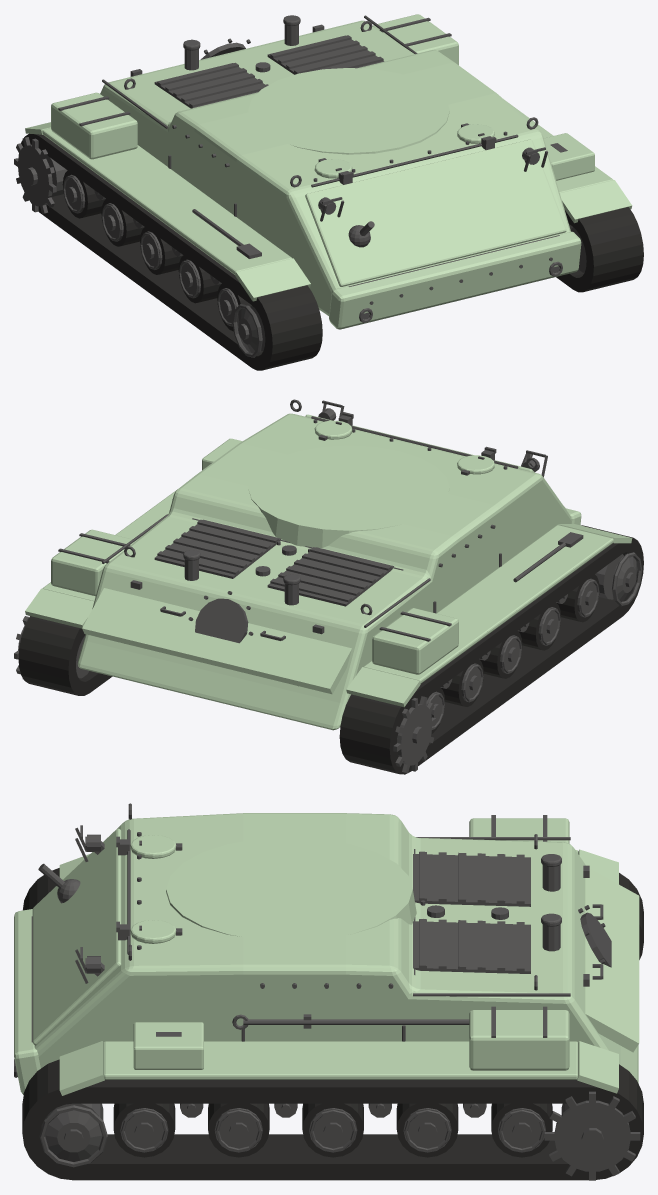
The model's file is light_hull_scout.glb.
3 views of the same model, one above another, from view 1: azimuth 30°, elevation 25°; view 2: azimuth 150°, elevation 25°; view 3: azimuth 270°, elevation 25° (orthographic). The views are drawn at different scales.
Parts seen in each view (by area): view 1: hull_body, glacis_plate, track_right, hull_ring_pedestal, hull_nose_cap, fender_right, track_left, stowage_right, fender_right_tip_f, fender_left_tip_f, stowage_left, toolbox_fender (+13 smaller); view 2: hull_body, track_right, hull_ring_pedestal, hull_rear_plate, fender_right, track_left, stowage_right, stowage_left, engine_grille_1, engine_grille_0, fender_right_tip_r, engine_access_door (+13 smaller); view 3: hull_body, track_left, hull_ring_pedestal, fender_left, glacis_plate, hull_rear_plate, stowage_left, sprocket_rear_disc_l, engine_grille_0, engine_grille_1, hull_nose_cap, toolbox_fender (+22 smaller).
Part boxes in pixels (x1,y1,x2,y2): hull_body: (100, 20, 570, 315); glacis_plate: (305, 139, 566, 286); track_right: (18, 133, 322, 370); hull_ring_pedestal: (248, 68, 449, 154); hull_nose_cap: (329, 231, 581, 329); fender_right: (42, 128, 292, 275); track_left: (556, 207, 643, 292); stowage_right: (51, 92, 137, 159); fender_right_tip_f: (235, 258, 310, 301); fender_left_tip_f: (560, 180, 632, 223); stowage_left: (373, 14, 458, 65); toolbox_fender: (544, 133, 594, 180); hull_body: (77, 413, 571, 730); track_right: (339, 525, 643, 774); hull_ring_pedestal: (248, 445, 449, 547); hull_rear_plate: (82, 588, 351, 694); fender_right: (364, 525, 613, 683); track_left: (18, 616, 112, 695); stowage_right: (372, 608, 458, 674); stowage_left: (51, 529, 135, 596); engine_grille_1: (267, 547, 393, 606); engine_grille_0: (154, 519, 280, 578); fender_right_tip_r: (346, 667, 420, 707); engine_access_door: (195, 598, 248, 643); hull_body: (34, 813, 638, 1083); track_left: (22, 1059, 643, 1180); hull_ring_pedestal: (166, 837, 416, 940); fender_left: (103, 1041, 578, 1079); glacis_plate: (32, 828, 121, 1045); hull_rear_plate: (585, 868, 639, 1052); stowage_left: (469, 1010, 569, 1070); sprocket_rear_disc_l: (554, 1100, 630, 1171); engine_grille_0: (413, 921, 530, 973); engine_grille_1: (413, 854, 530, 906); hull_nose_cap: (14, 909, 40, 1094); toolbox_fender: (133, 1022, 203, 1069).
Size of the model in its own units: 4.3 by 1.67 by 4.91.
